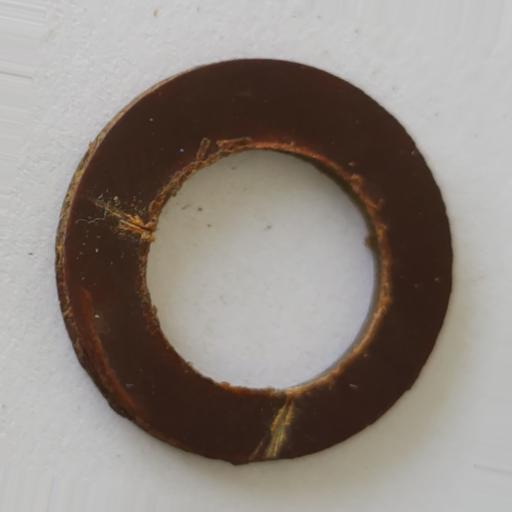defect: (76, 190, 156, 245), (249, 397, 296, 464)
